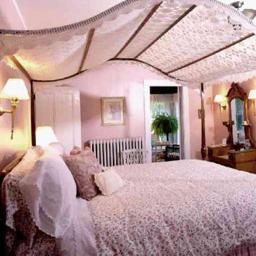Cama: (20, 142, 253, 253)
